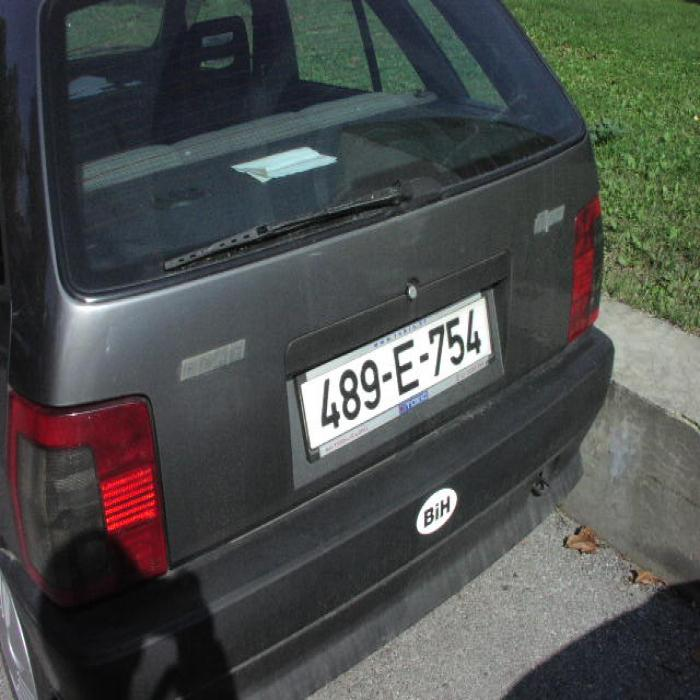number_plate: (306, 298, 486, 454)
